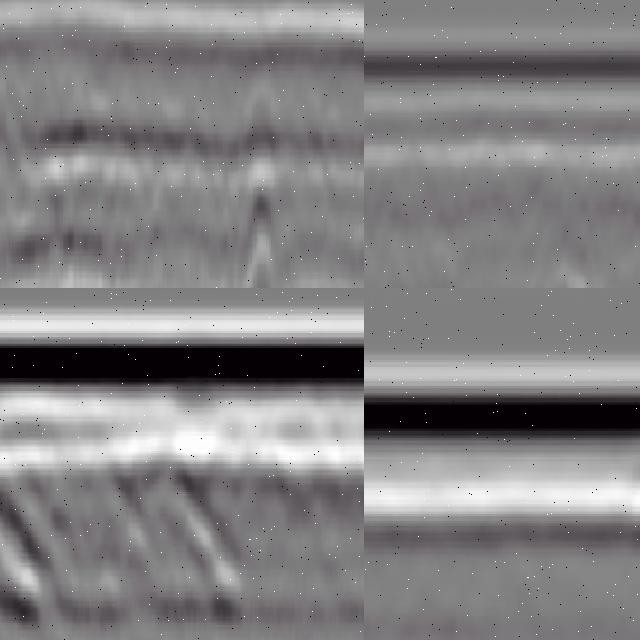crack: (243, 84, 275, 289)
loose: (1, 448, 245, 622)
